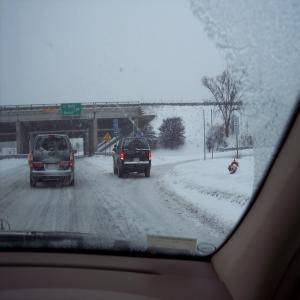Vehicle-registration-plate: (48, 164, 57, 170), (135, 158, 141, 162)
